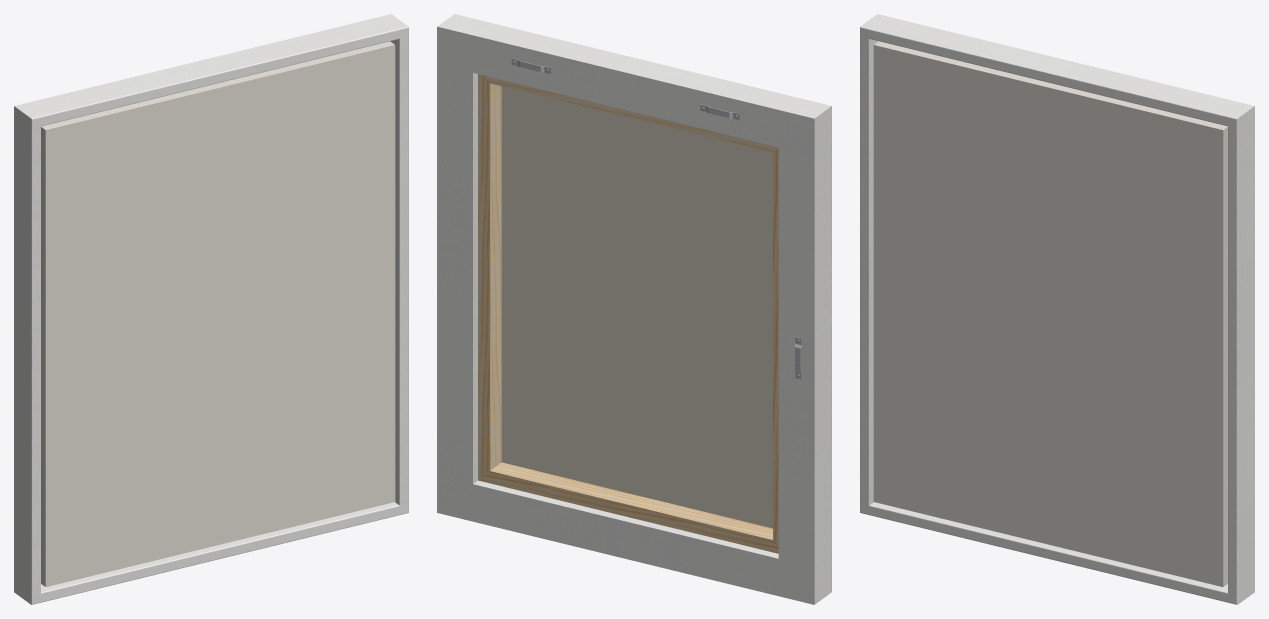
The model's file is decoded-from-delivery.glb.
3 views of the same model, side by side, from view 1: azimuth 30°, elevation 25°; view 2: azimuth 150°, elevation 25°; view 3: azimuth 330°, elevation 25° (orthographic).
Visible parts, largest first — view 1: Canvas artwork front, Tray approved profile 0; view 2: Canvas linen reverse, Tray approved profile 0, Stretcher top, Sawtooth hanger 0; view 3: Canvas artwork front, Tray approved profile 0.
Boxes of the visible parts, x1=… form: Canvas artwork front: x1=41, y1=41, x2=395, y2=586; Tray approved profile 0: x1=14, y1=14, x2=408, y2=604; Canvas linen reverse: x1=501, y1=86, x2=772, y2=528; Tray approved profile 0: x1=437, y1=14, x2=831, y2=604; Stretcher top: x1=478, y1=74, x2=778, y2=553; Sawtooth hanger 0: x1=511, y1=58, x2=801, y2=379; Canvas artwork front: x1=873, y1=41, x2=1227, y2=586; Tray approved profile 0: x1=860, y1=14, x2=1254, y2=604.
Bounding box in the file's own units: 0.432 × 0.532 × 0.0374.
7 materials, 3 textured.
